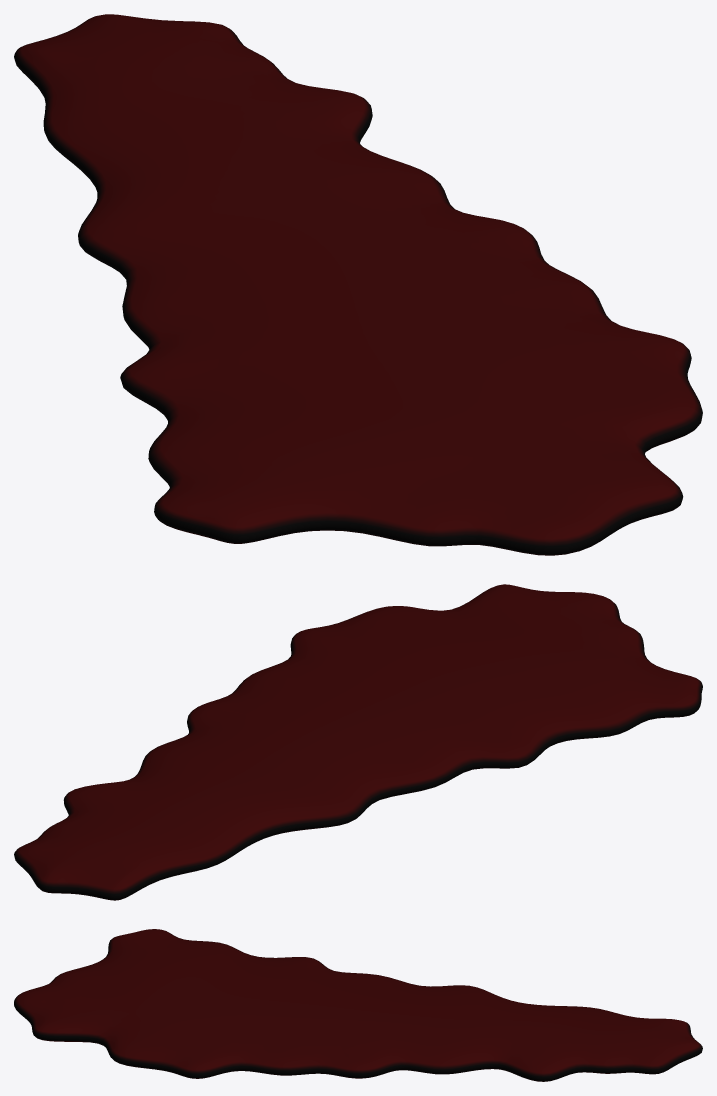
File: WaterPuddle_Aquarium.fbx
3 renders of one model, top to bottom at view 1: azimuth 30°, elevation 25°; view 2: azimuth 150°, elevation 25°; view 3: azimuth 270°, elevation 25°, orthographic. The views are drawn at different scales.
Visible parts, largest first — view 1: Plane.045; view 2: Plane.045; view 3: Plane.045.
Part boxes in pixels (<box>): Plane.045: <box>14,14,702,555</box>; Plane.045: <box>14,584,702,900</box>; Plane.045: <box>14,929,702,1081</box>.
Size of the model in its own units: 5.7 by 0.4437 by 11.24.
